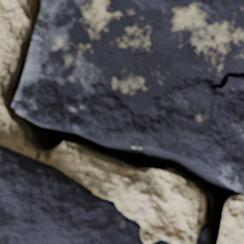brick: (13, 0, 243, 192), (0, 146, 142, 243), (154, 240, 168, 243)
crack: (0, 0, 241, 243)
